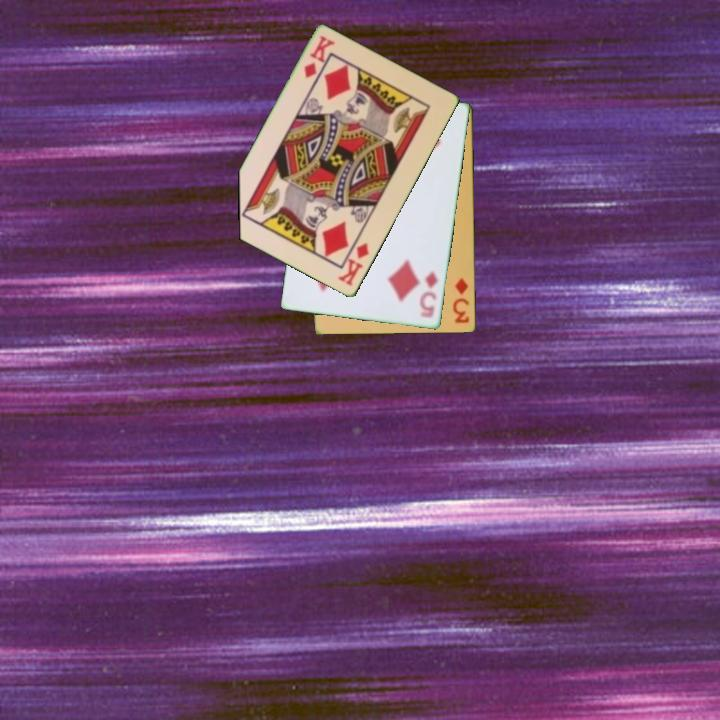3d: (450, 275, 472, 326)
5d: (417, 268, 441, 322)
Kd: (335, 239, 372, 289), (300, 32, 337, 82)
